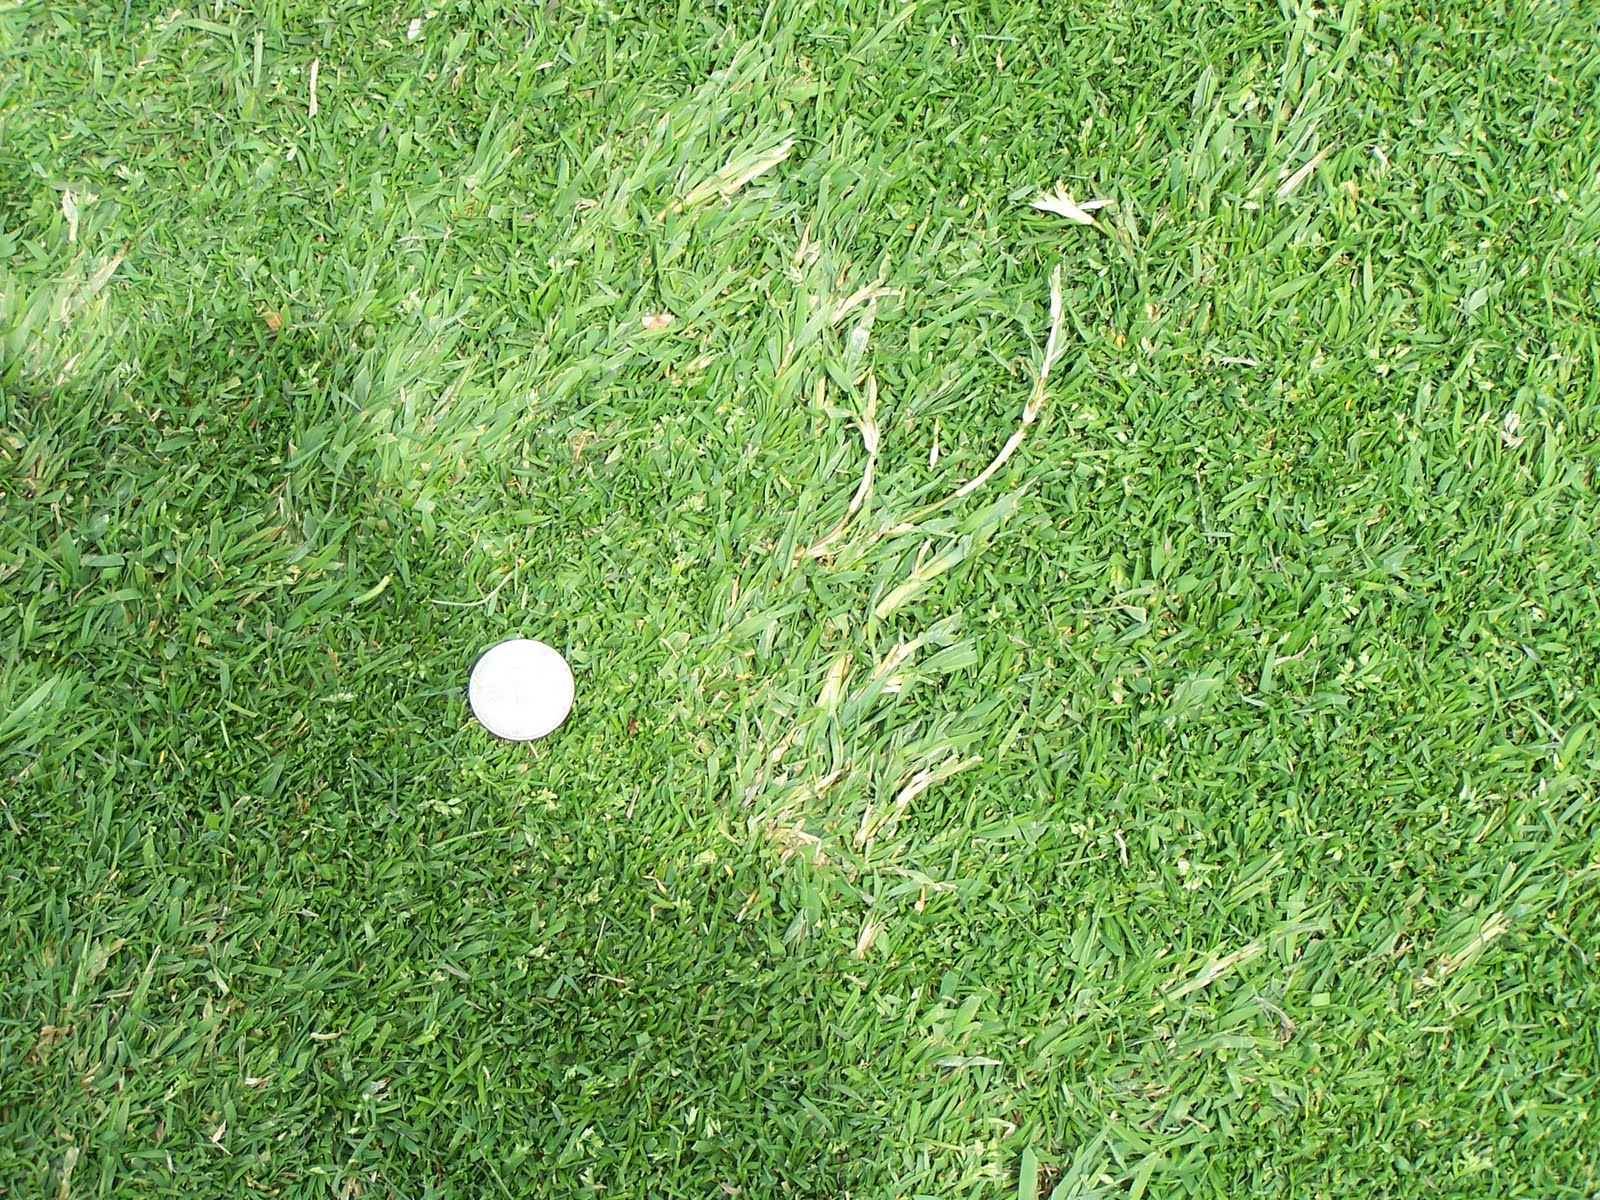crabgrass: (666, 536, 947, 858), (689, 228, 975, 451), (1019, 1047, 1225, 1200)
